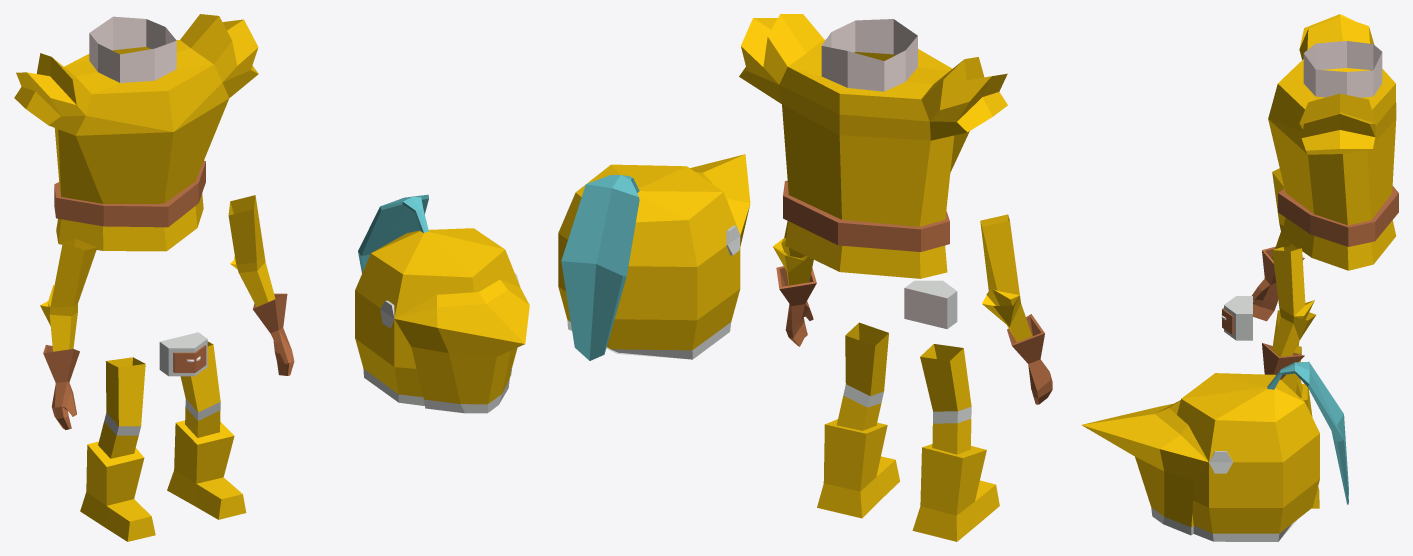
File: ArmorGold.fbx
3 views of the same model, side by side, from view 1: azimuth 30°, elevation 25°; view 2: azimuth 150°, elevation 25°; view 3: azimuth 270°, elevation 25° (orthographic). The views are drawn at different scales.
Parts seen in each view (by area): view 1: Armor_Gold.001, Armor_Gold, Armor_Gold.002, Armor_Gold.009, Armor_Gold.004, Armor_Gold.007, Armor_Gold.003, Armor_Gold.008, Armor_Gold.005; view 2: Armor_Gold.001, Armor_Gold, Armor_Gold.004, Armor_Gold.009, Armor_Gold.002, Armor_Gold.003, Armor_Gold.008, Armor_Gold.007, Armor_Gold.005; view 3: Armor_Gold, Armor_Gold.001, Armor_Gold.007, Armor_Gold.002, Armor_Gold.005.
Part boxes in pixels (x1,y1,x2,y2): Armor_Gold.001: (14, 14, 258, 251); Armor_Gold: (355, 194, 529, 413); Armor_Gold.002: (40, 239, 97, 429); Armor_Gold.009: (167, 420, 246, 519); Armor_Gold.004: (80, 441, 155, 541); Armor_Gold.007: (228, 195, 294, 375); Armor_Gold.003: (98, 357, 145, 458); Armor_Gold.008: (180, 341, 220, 437); Armor_Gold.005: (159, 332, 207, 376); Armor_Gold.001: (739, 14, 1007, 278); Armor_Gold: (558, 154, 750, 360); Armor_Gold.004: (912, 444, 999, 541); Armor_Gold.009: (817, 419, 899, 518); Armor_Gold.002: (980, 214, 1052, 404); Armor_Gold.003: (920, 344, 971, 454); Armor_Gold.008: (837, 322, 888, 430); Armor_Gold.007: (773, 221, 816, 346); Armor_Gold.005: (904, 280, 957, 328); Armor_Gold: (1081, 361, 1348, 541); Armor_Gold.001: (1268, 14, 1398, 270); Armor_Gold.007: (1262, 247, 1315, 379); Armor_Gold.002: (1252, 168, 1304, 321); Armor_Gold.005: (1222, 296, 1252, 340).
Size of the model in its own units: 165 by 162 by 109.
